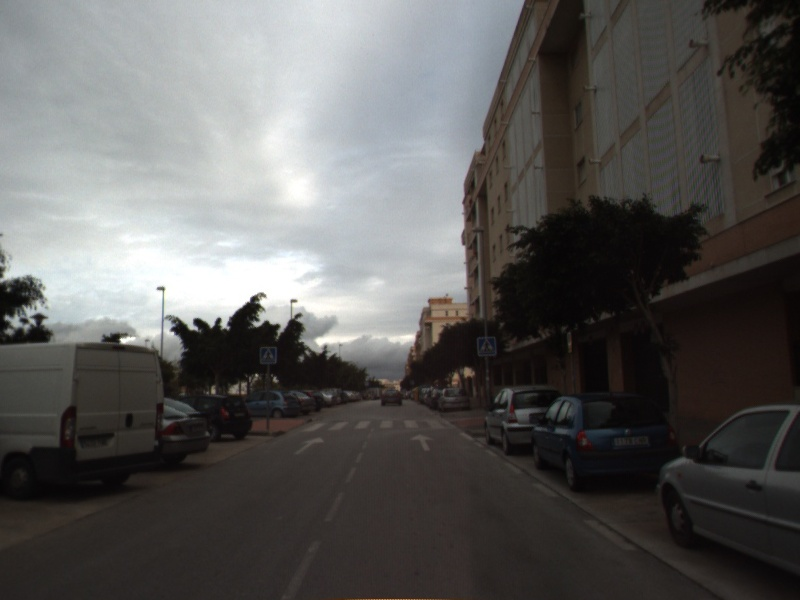STRAIGHT: (292, 435, 326, 456), (408, 432, 436, 453)
